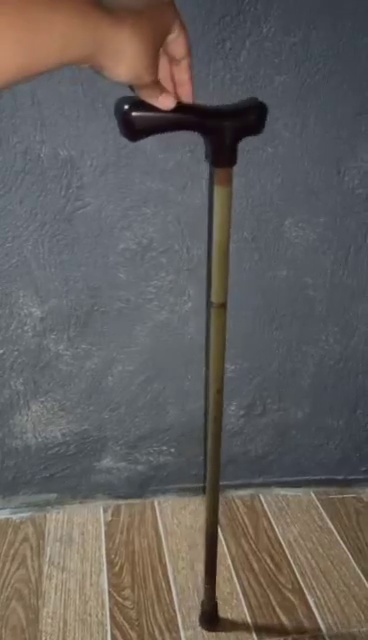cane: (115, 92, 268, 629)
hand: (74, 1, 197, 116)
